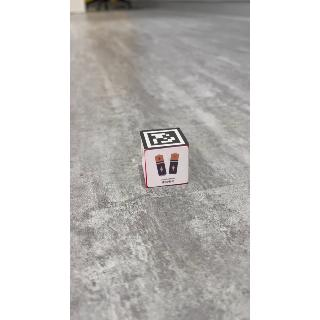Used_Battery: (146, 148, 195, 190)
